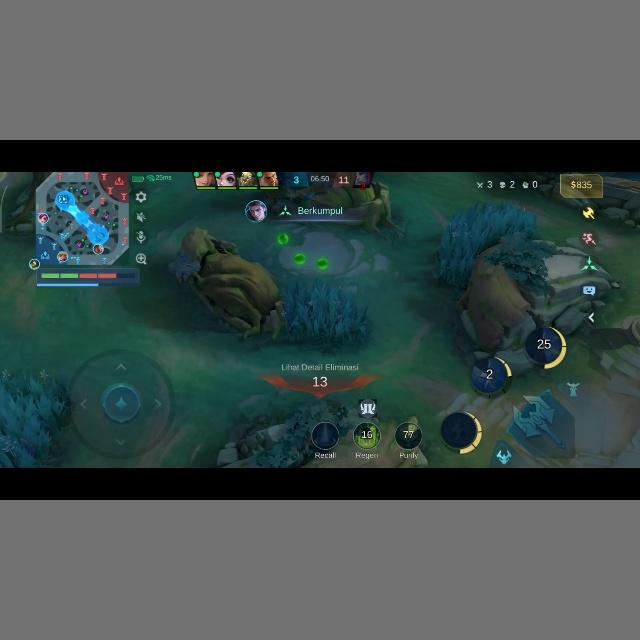hp_self: (35, 267, 138, 286)
